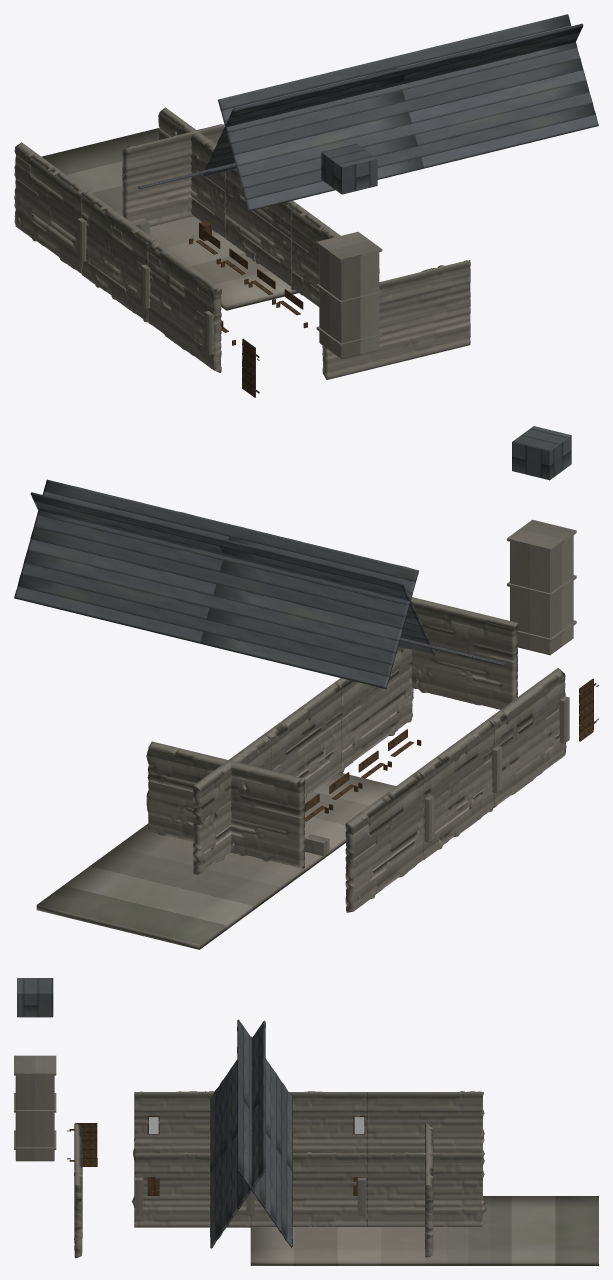
The model's file is tls_env_020_church.fbx.
3 renders of one model, top to bottom at view 1: azimuth 30°, elevation 25°; view 2: azimuth 150°, elevation 25°; view 3: azimuth 270°, elevation 25°, orthographic. The views are drawn at different scales.
Parts seen in each view (by area): view 1: TLS_Church_Roof0, TLS_Church_WestWall, TLS_Church_Floor, TLS_Church_Roof1, TLS_Church_NaveWall00, TLS_Church_EastWall, TLS_Church_NaveWall02, TLS_Church_Tower, TLS_Church_NaveWall01, TLS_Church_NaveWall11, TLS_Church_NaveWall12, TLS_Church_NaveWall10 (+3 smaller); view 2: TLS_Church_Roof1, TLS_Church_Floor, TLS_Church_EastWall, TLS_Church_WestWall, TLS_Church_Roof0, TLS_Church_NaveWall02, TLS_Church_NaveWall01, TLS_Church_NaveWall00, TLS_Church_Tower, TLS_Church_NaveWall11, TLS_Church_NaveWall10, TLS_Church_NaveWall12 (+3 smaller); view 3: TLS_Church_Floor, TLS_Church_NaveWall12, TLS_Church_NaveWall02, TLS_Church_Roof1, TLS_Church_Roof0, TLS_Church_NaveWall10, TLS_Church_NaveWall11, TLS_Church_NaveWall00, TLS_Church_NaveWall01, TLS_Church_Tower, TLS_Church_TowerRoof, TLS_Church_WestWall (+3 smaller).
Boxes of the visible parts, bbox=[...] form: TLS_Church_Roof0: bbox=[218, 14, 598, 211]; TLS_Church_WestWall: bbox=[322, 260, 470, 379]; TLS_Church_Floor: bbox=[42, 128, 379, 310]; TLS_Church_Roof1: bbox=[202, 23, 583, 176]; TLS_Church_NaveWall00: bbox=[147, 239, 221, 372]; TLS_Church_EastWall: bbox=[122, 124, 224, 226]; TLS_Church_NaveWall02: bbox=[14, 142, 87, 273]; TLS_Church_Tower: bbox=[319, 246, 379, 359]; TLS_Church_NaveWall01: bbox=[81, 191, 153, 322]; TLS_Church_NaveWall11: bbox=[224, 169, 297, 285]; TLS_Church_NaveWall12: bbox=[158, 107, 225, 238]; TLS_Church_NaveWall10: bbox=[290, 204, 340, 306]; TLS_Church_Roof1: bbox=[14, 479, 418, 688]; TLS_Church_Floor: bbox=[36, 772, 395, 949]; TLS_Church_EastWall: bbox=[146, 741, 305, 868]; TLS_Church_WestWall: bbox=[411, 597, 518, 709]; TLS_Church_Roof0: bbox=[30, 492, 435, 655]; TLS_Church_NaveWall02: bbox=[345, 771, 424, 912]; TLS_Church_NaveWall01: bbox=[417, 719, 495, 860]; TLS_Church_NaveWall00: bbox=[488, 668, 566, 807]; TLS_Church_Tower: bbox=[510, 535, 573, 655]; TLS_Church_NaveWall11: bbox=[264, 682, 342, 798]; TLS_Church_NaveWall10: bbox=[335, 646, 413, 773]; TLS_Church_NaveWall12: bbox=[193, 734, 272, 874]; TLS_Church_Floor: bbox=[250, 1196, 598, 1265]; TLS_Church_NaveWall12: bbox=[366, 1151, 486, 1226]; TLS_Church_NaveWall02: bbox=[366, 1091, 484, 1156]; TLS_Church_Roof1: bbox=[237, 1019, 292, 1247]; TLS_Church_Roof0: bbox=[210, 1020, 265, 1248]; TLS_Church_NaveWall10: bbox=[132, 1152, 250, 1227]; TLS_Church_NaveWall11: bbox=[250, 1151, 366, 1226]; TLS_Church_NaveWall00: bbox=[133, 1091, 214, 1159]; TLS_Church_NaveWall01: bbox=[289, 1091, 366, 1153]; TLS_Church_Tower: bbox=[15, 1075, 54, 1161]; TLS_Church_TowerRoof: bbox=[17, 978, 53, 1017]; TLS_Church_WestWall: bbox=[74, 1123, 82, 1258].
Size of what is drawn, in the model's own units: 1825 by 980 by 2418.
5 materials, 4 textured.
